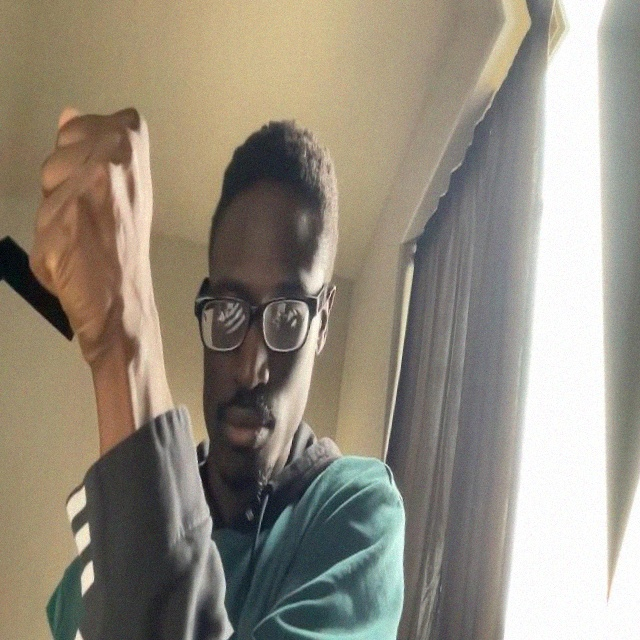Rock: (19, 92, 168, 365)
